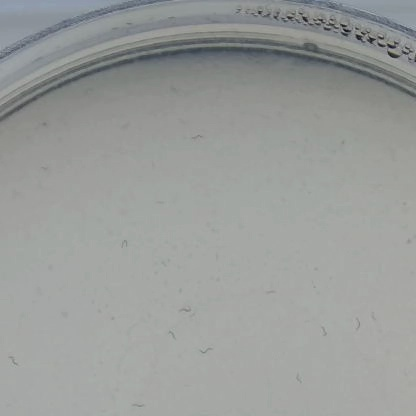worm: (257, 284, 294, 303), (162, 320, 180, 347), (370, 305, 387, 333), (292, 366, 309, 393), (194, 338, 216, 358), (124, 397, 151, 412), (108, 234, 135, 249), (1, 352, 23, 369), (172, 301, 194, 317), (353, 307, 363, 340), (186, 128, 208, 143), (154, 197, 171, 212), (313, 328, 333, 339)
